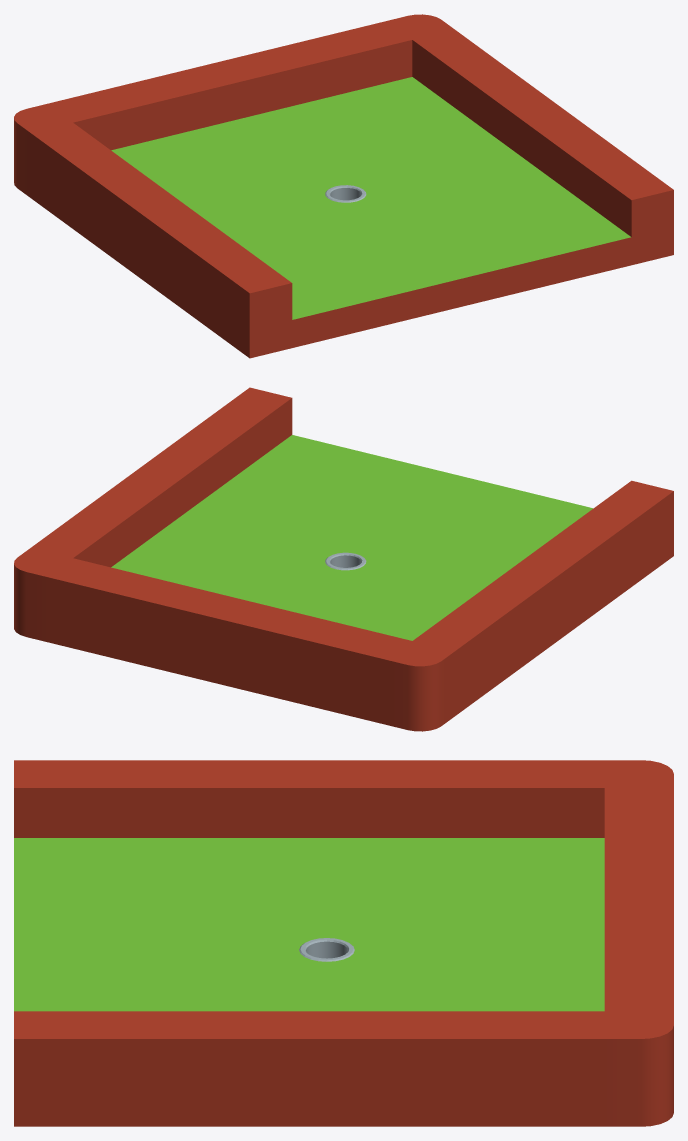
Rendered from end.obj.
3 renders of one model, top to bottom at view 1: azimuth 30°, elevation 25°; view 2: azimuth 150°, elevation 25°; view 3: azimuth 270°, elevation 25°, orthographic. The views are drawn at different scales.
Visible parts, largest first — view 1: pPipe3; view 2: pPipe3; view 3: pPipe3.
Part boxes in pixels (x1,y1,x2,y2): pPipe3: (14, 14, 673, 358); pPipe3: (14, 387, 673, 731); pPipe3: (14, 760, 673, 1126).
Bounding box in the file's own units: 3 × 0.8234 × 3.
